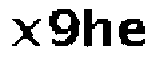9: (44, 6, 81, 50)
e: (115, 18, 148, 49)
h: (82, 7, 114, 50)
x: (9, 19, 43, 50)
